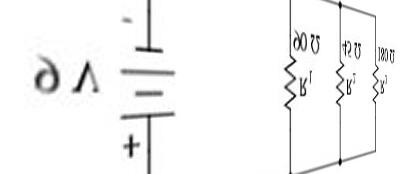resistor: (275, 44, 294, 113), (329, 53, 345, 107), (366, 54, 377, 102)
